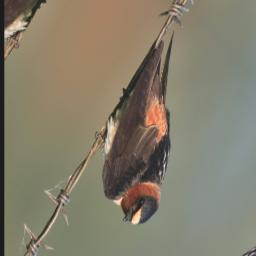Swallow: (73, 18, 232, 242)
